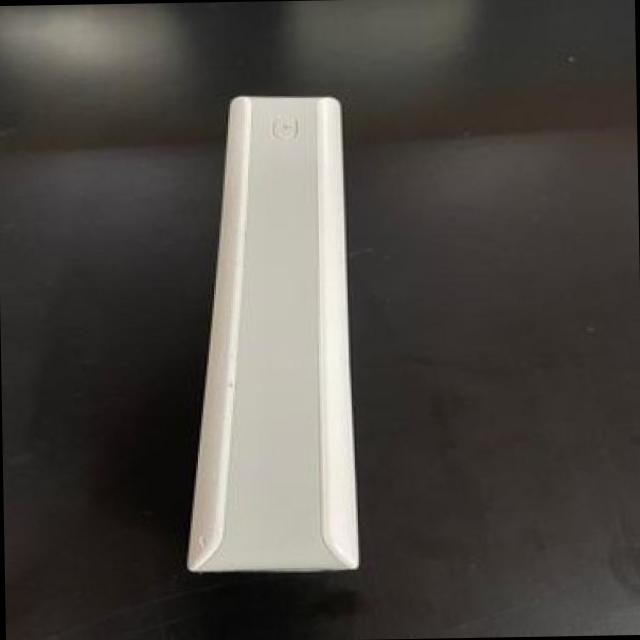power_bank: (172, 91, 395, 578)
